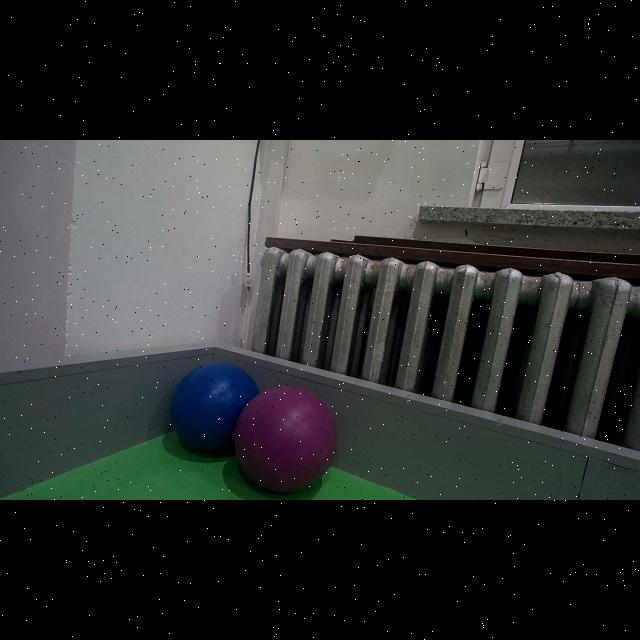B: (170, 362, 260, 453)
P: (234, 386, 338, 494)
